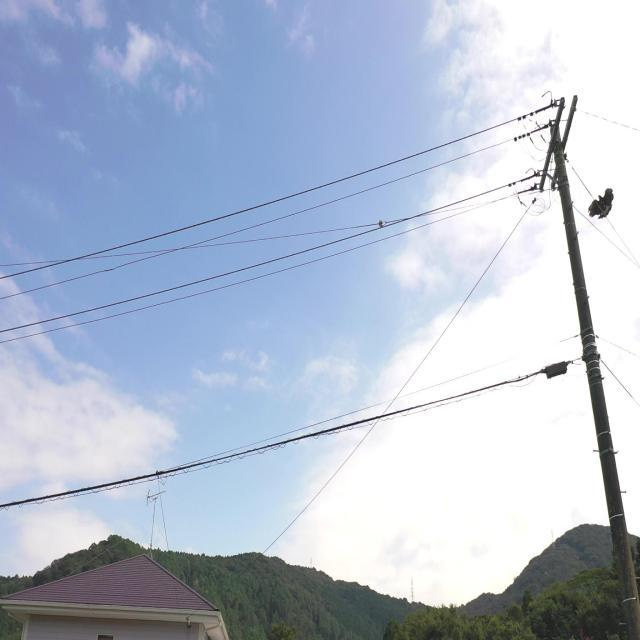Birds: (576, 174, 622, 226)
